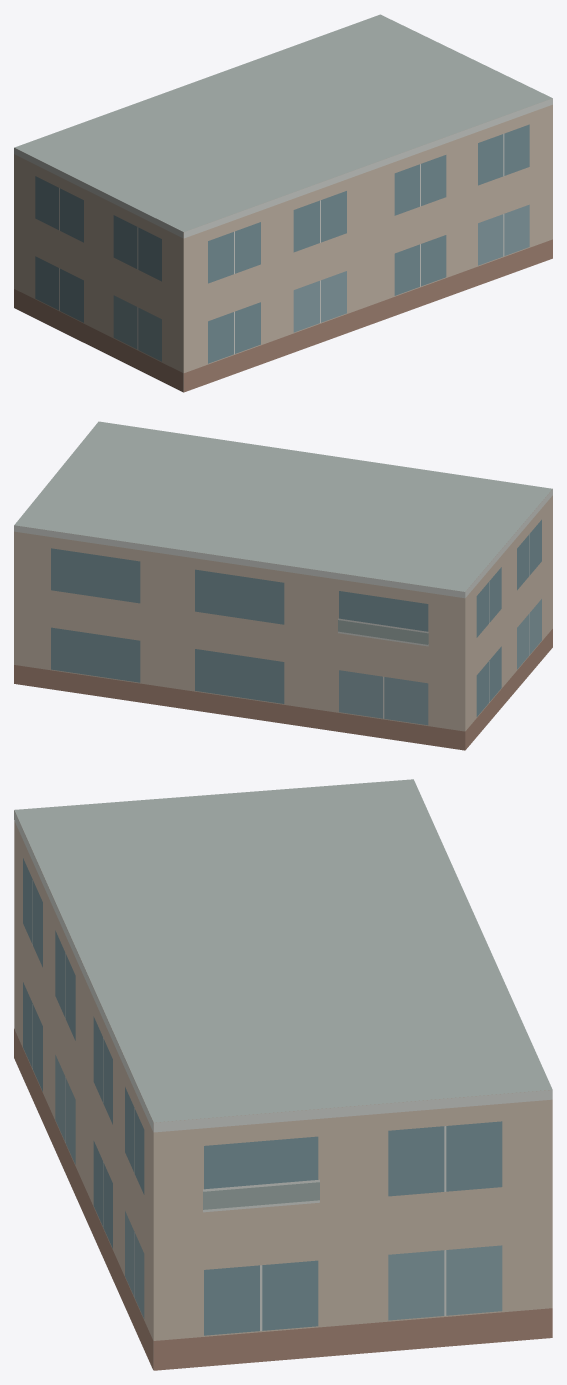
The model's file is survey-upis-32696794.glb.
3 renders of one model, top to bottom at view 1: azimuth 30°, elevation 25°; view 2: azimuth 150°, elevation 25°; view 3: azimuth 270°, elevation 25°, orthographic. The views are drawn at different scales.
Visible parts, largest first — view 1: survey-upis-32696794.tmp; view 2: survey-upis-32696794.tmp; view 3: survey-upis-32696794.tmp.
Part boxes in pixels (x1=…): survey-upis-32696794.tmp: x1=14, y1=14, x2=552, y2=392; survey-upis-32696794.tmp: x1=14, y1=421, x2=552, y2=750; survey-upis-32696794.tmp: x1=14, y1=779, x2=552, y2=1370.
Bounding box in the file's own units: 18.12 × 6.1 × 12.01.
